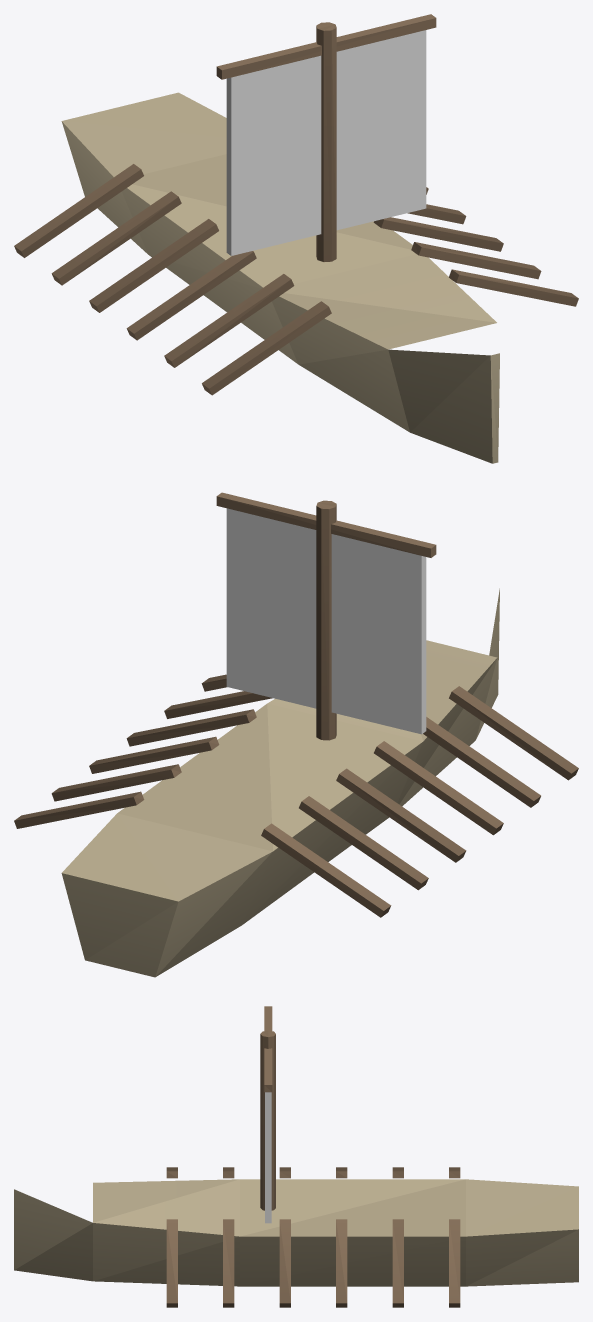
File: Trireme.glb
3 views of the same model, one above another, from view 1: azimuth 30°, elevation 25°; view 2: azimuth 150°, elevation 25°; view 3: azimuth 270°, elevation 25° (orthographic). The views are drawn at different scales.
Visible parts, largest first — view 1: Body; view 2: Body; view 3: Body.
Part boxes in pixels (x1,y1,x2,y2): Body: (14,14,578,463); Body: (14,492,578,977); Body: (14,1006,578,1307).
Size of the model in its own units: 0.5689 by 0.46 by 1.
